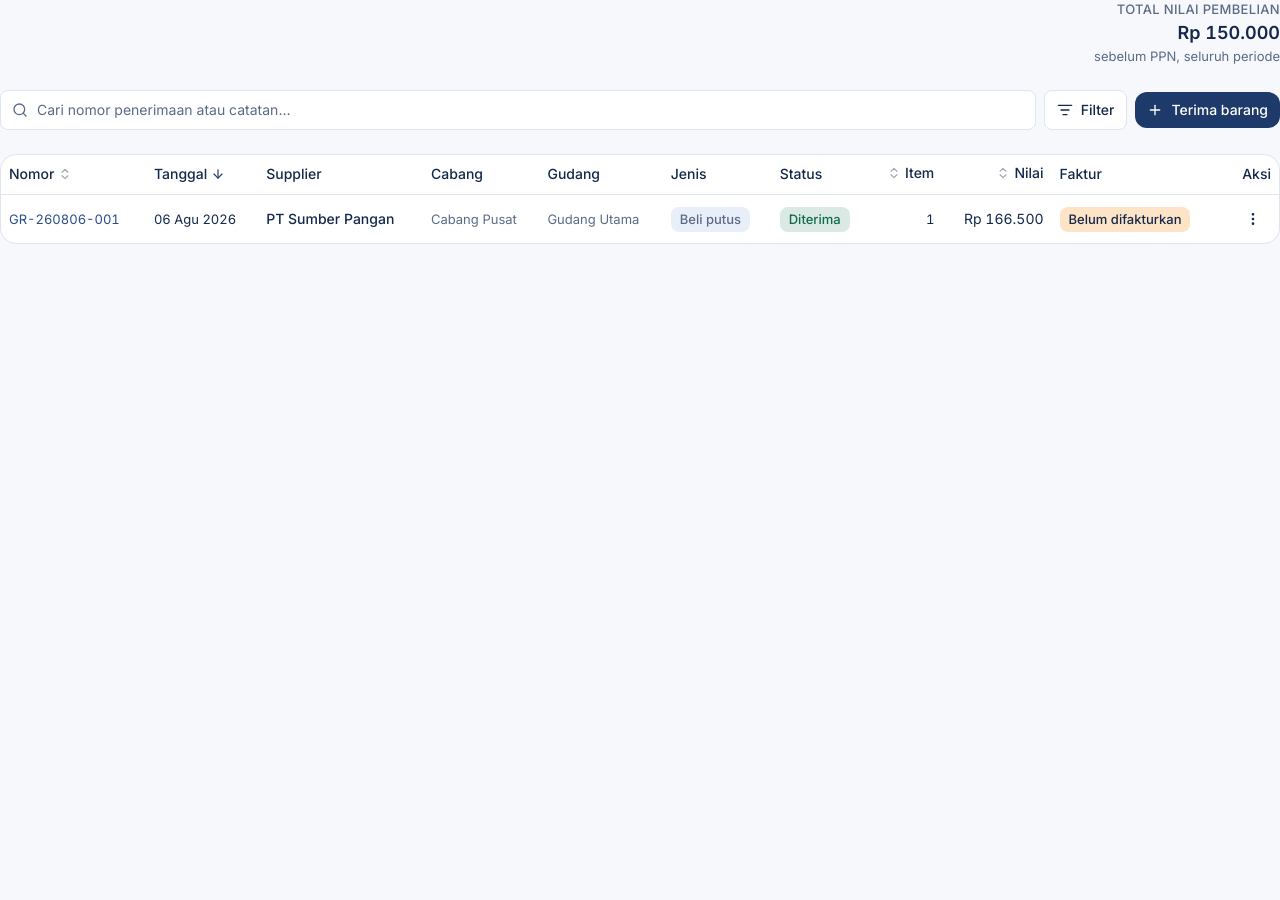
Test: ReceiptsScreen › the branch filter › offers only the warehouses the chosen branch may have received at
This screenshot has width=1280, height=900.
Step 1. Click the button "Filter" → (1086,110), box [1044,90,1127,130]
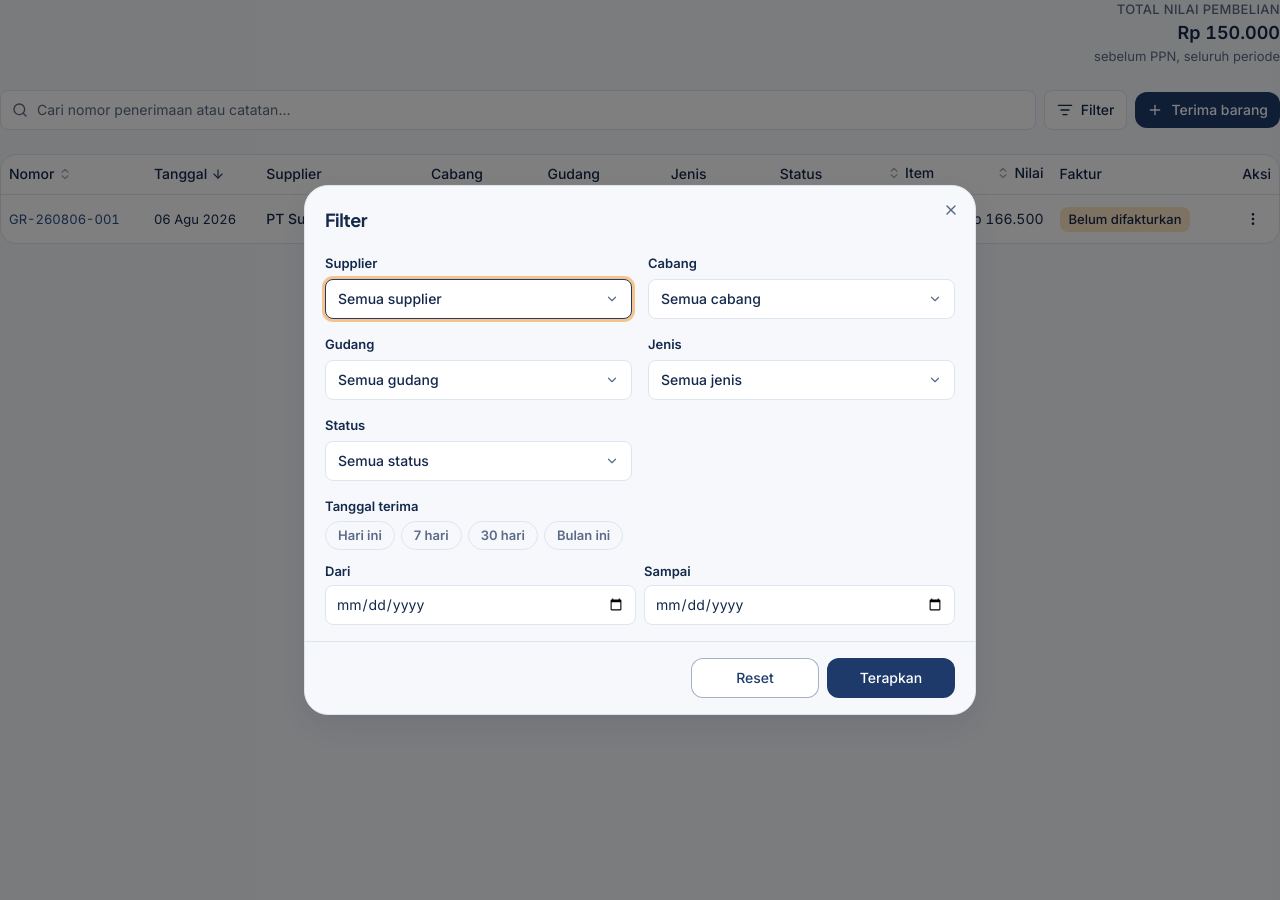
Step 2. Click the button with aria-label "Filter cabang" → (711,298), box [648,279,955,319]
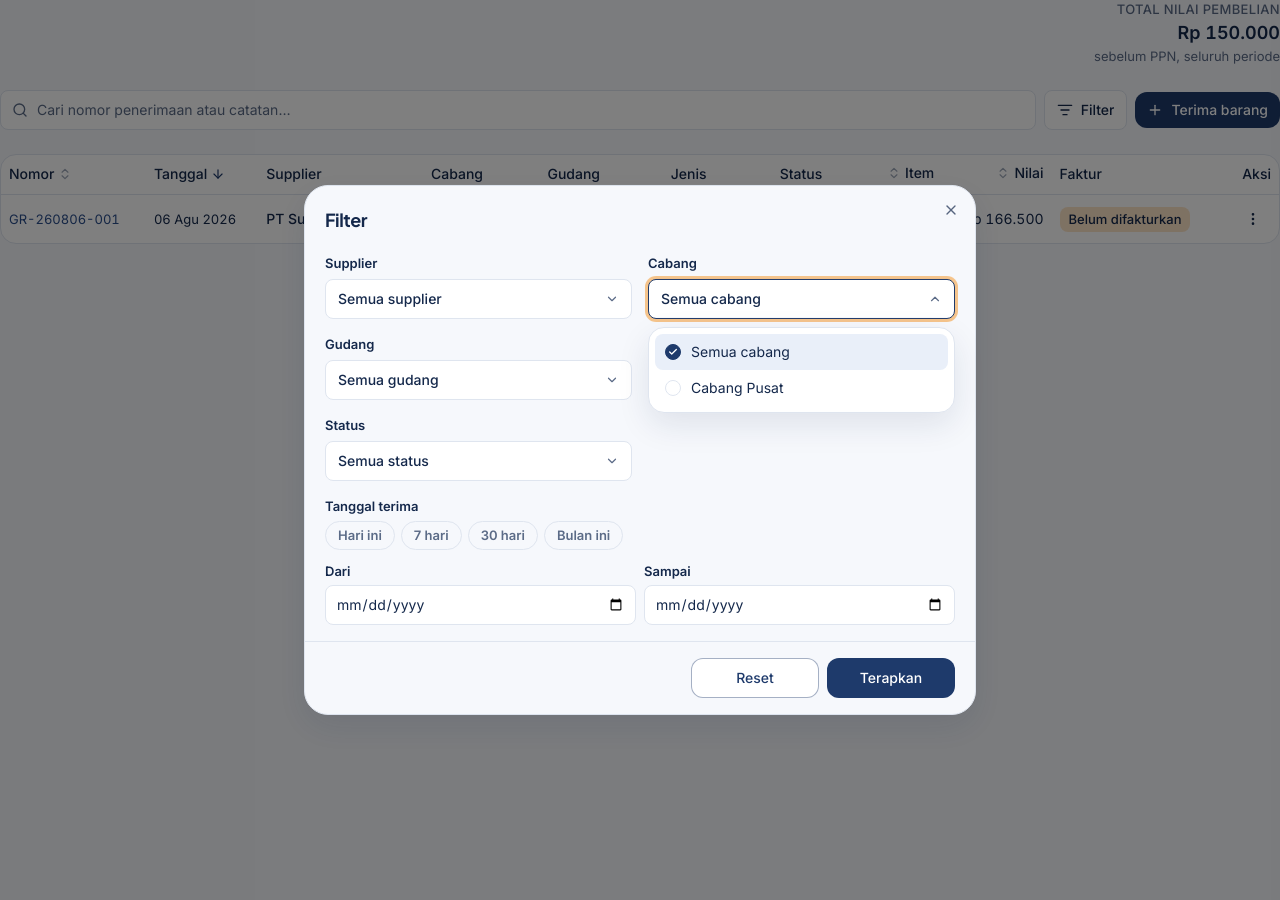
Step 3. Click the option "Cabang Pusat" → (724,388), box [665,379,784,396]
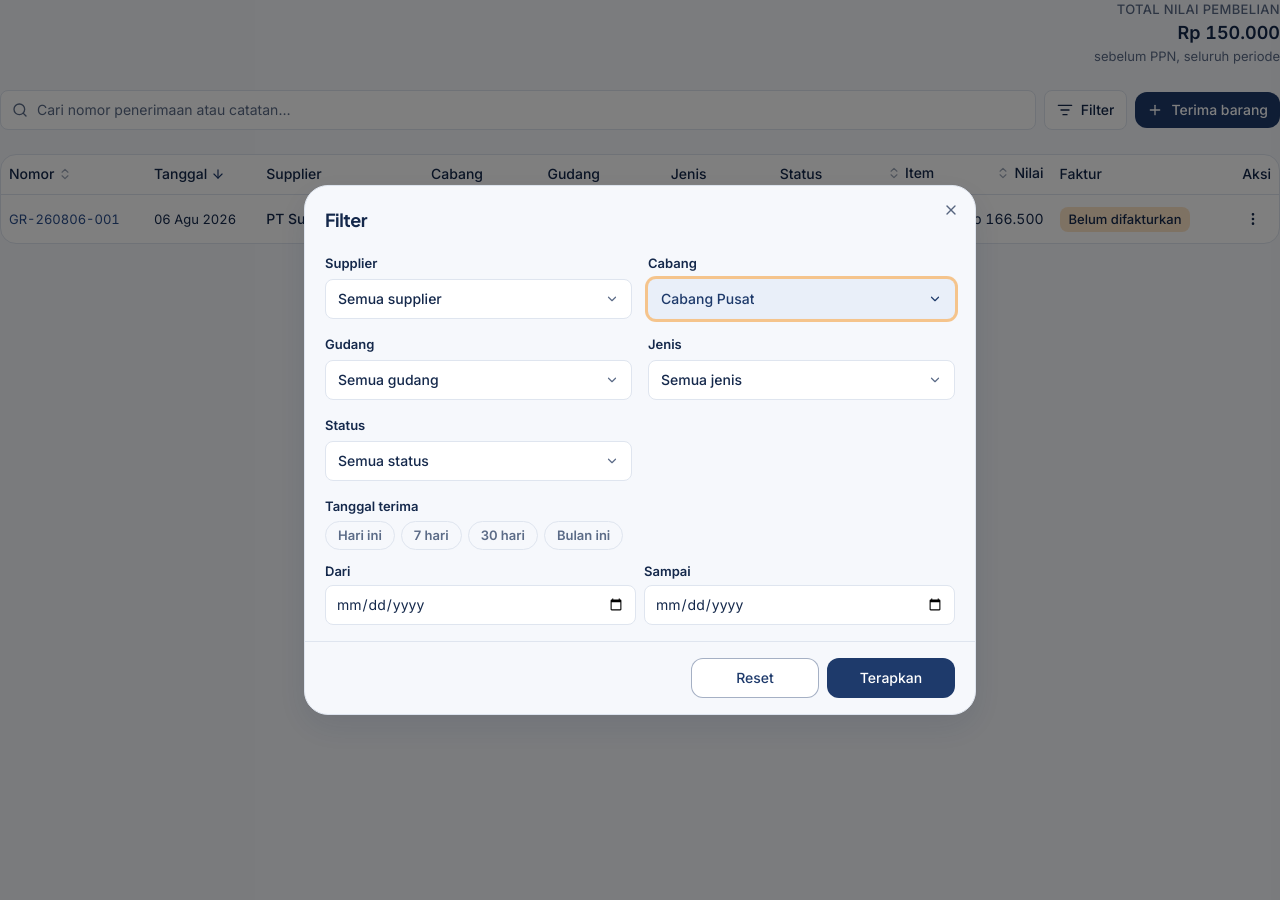
Step 4. Click the button with aria-label "Filter gudang" → (388,379), box [325,360,632,400]
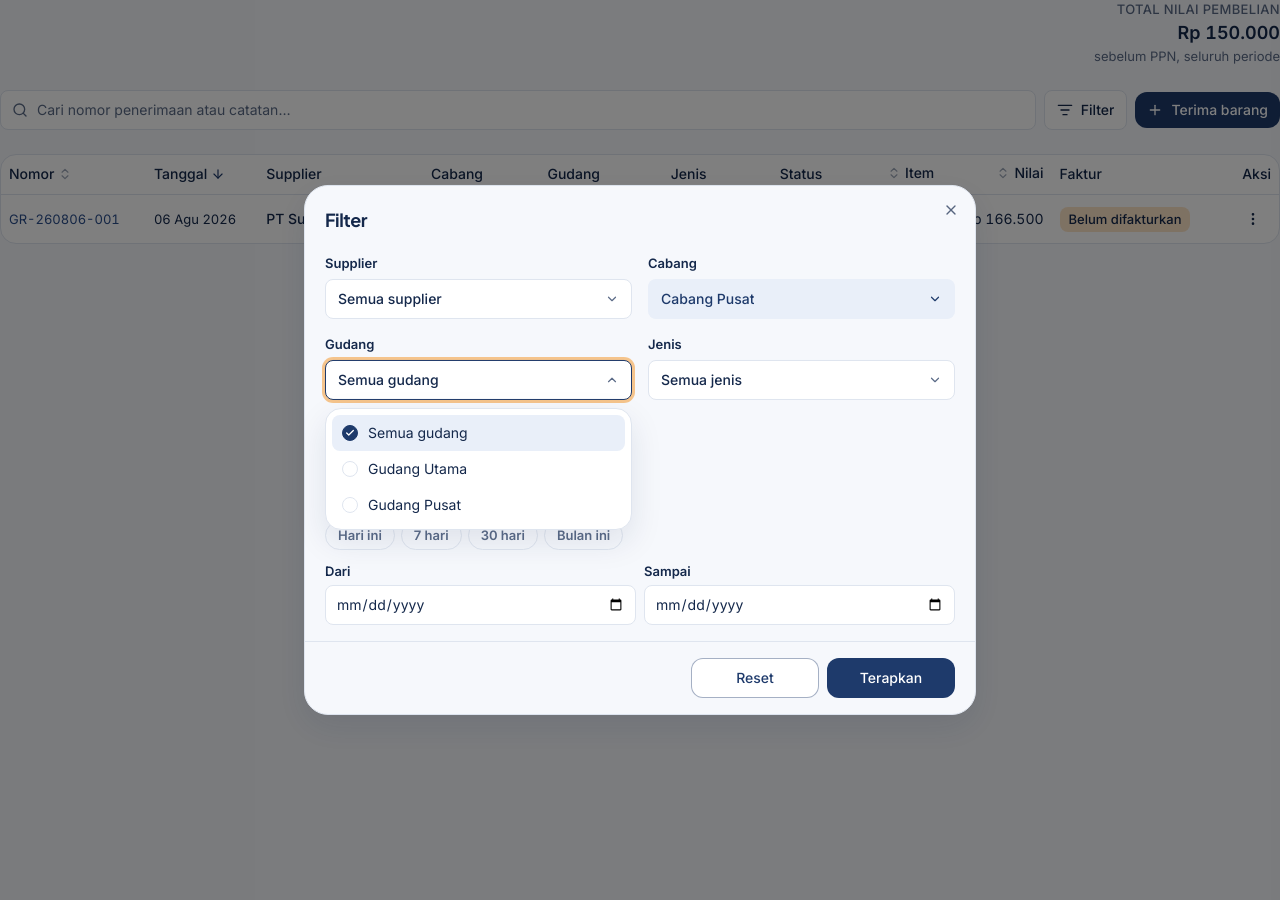
Expected: the option "Gudang Utama" is shown, [342,460,467,477]
Expected: the option "Gudang Pusat" is shown, [342,496,461,513]
